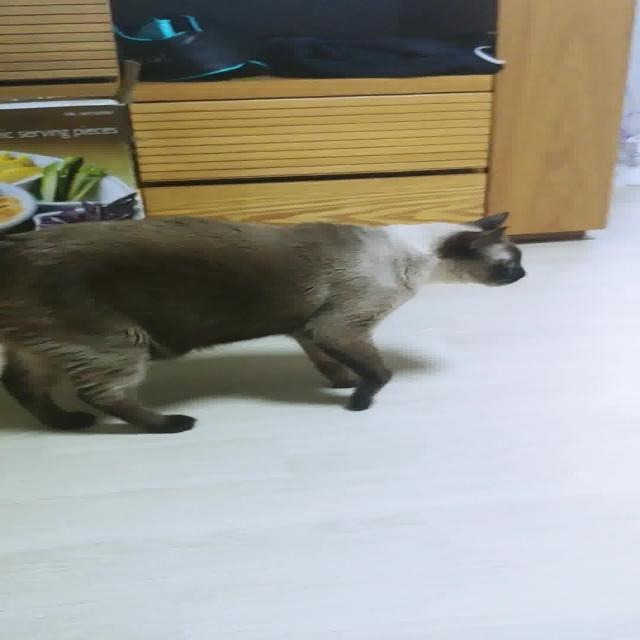cat: (0, 209, 542, 443)
